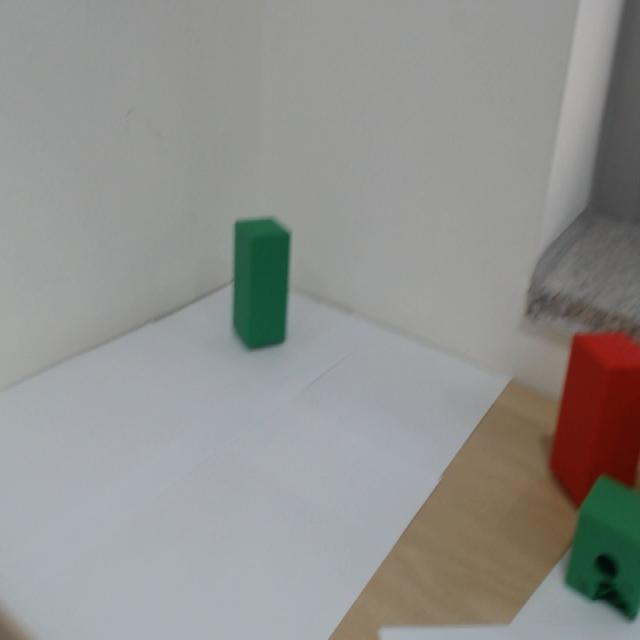cube: (195, 85, 333, 492)
